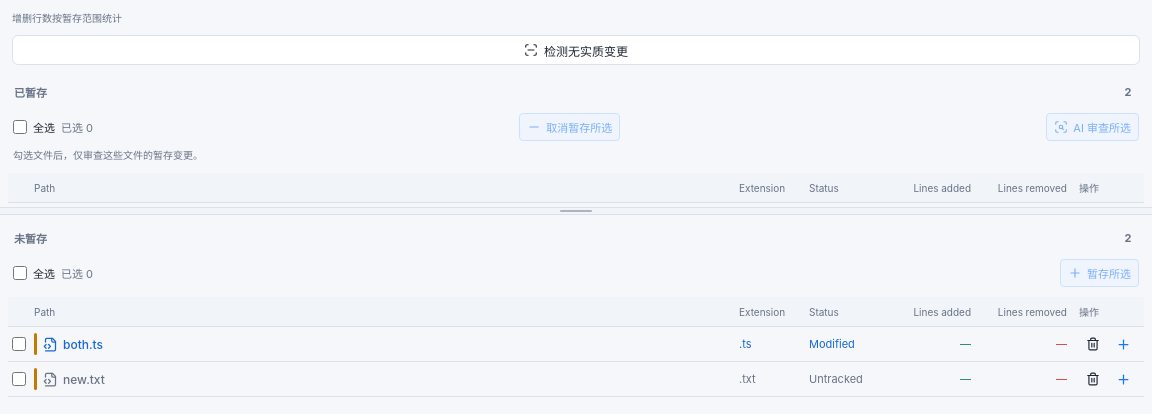
Test: batch stage and unstage › unstages checked files using the same staged selection as AI review
The image size is (1152, 414).
Click the checkbox named "全选已暂存文件": (20, 127) [13,120,27,134]
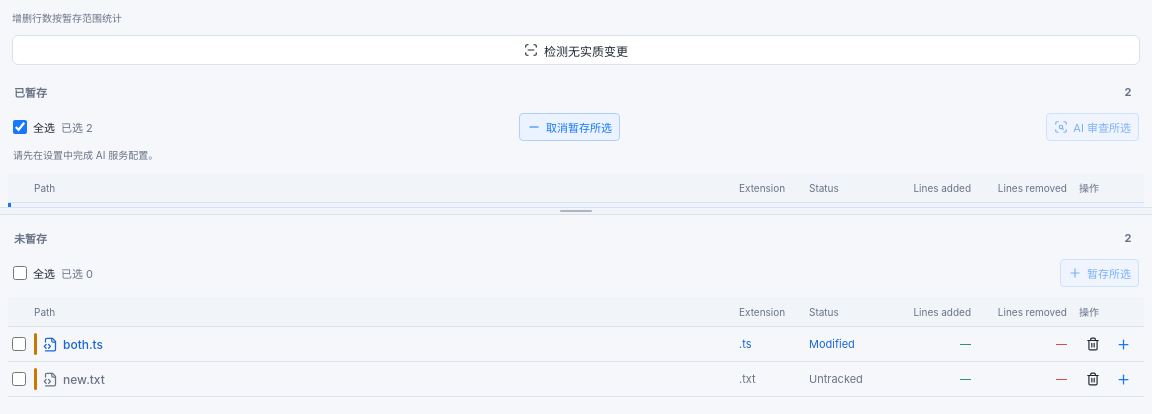
Click the button with aria-label "批量取消暂存": (570, 127) [519,113,620,141]
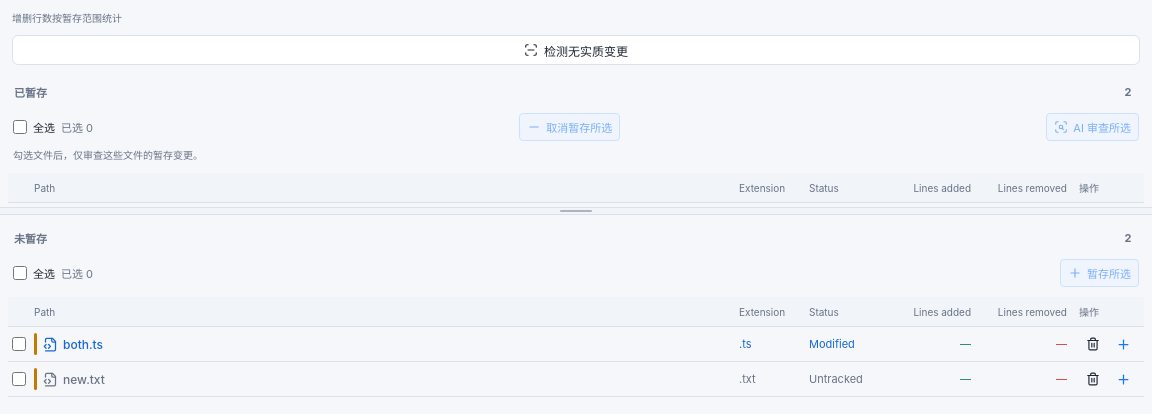
Result: the button with aria-label "批量取消暂存" is disabled at [519,113,620,141]
